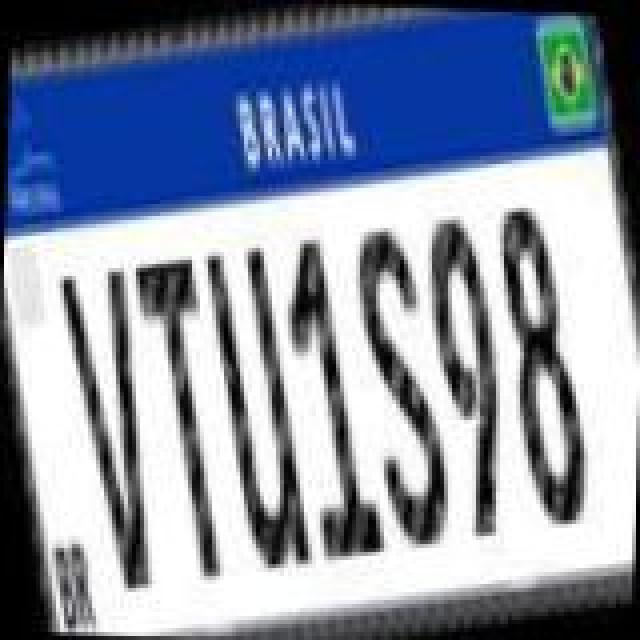1: (254, 222, 398, 566)
8: (470, 194, 606, 534)
9: (398, 208, 534, 544)
S: (328, 214, 468, 554)
T: (116, 252, 252, 592)
U: (186, 236, 326, 580)
V: (40, 254, 184, 594)
